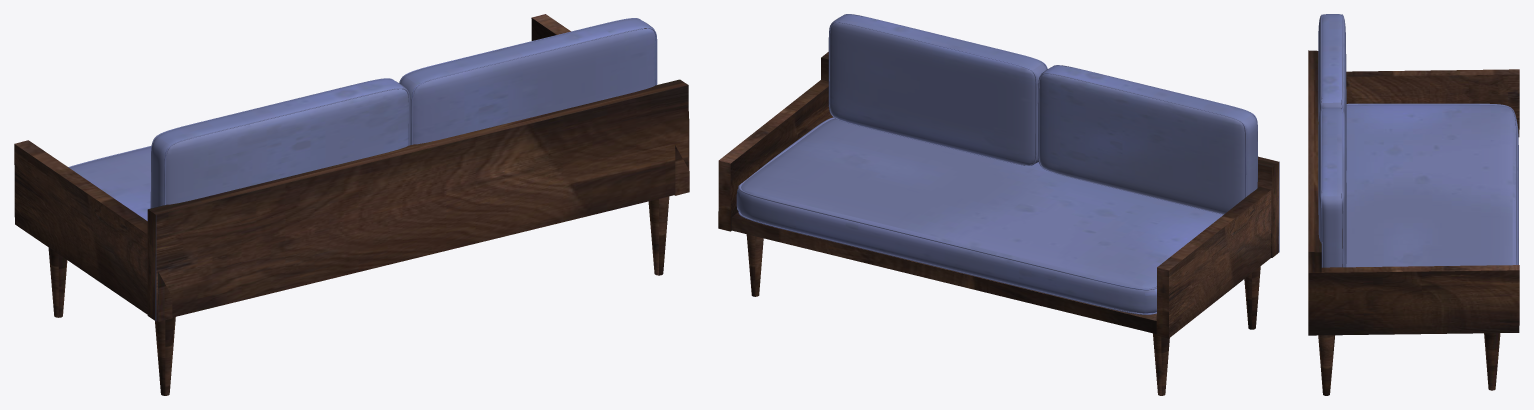
Rendered from Unwrapped_Couch.FBX.
The picture shows the model from 3 angles, left to right: view 1: azimuth 30°, elevation 25°; view 2: azimuth 150°, elevation 25°; view 3: azimuth 270°, elevation 25°; orthographic projection. The views are drawn at different scales.
Visible parts, largest first — view 1: Box004; view 2: Box004; view 3: Box004.
Boxes of the visible parts, box(x1,y1,x2,y2) form: Box004: box(14, 14, 689, 395); Box004: box(718, 14, 1279, 395); Box004: box(1308, 14, 1519, 395).
Bounding box in the file's own units: 70.57 × 31.82 × 30.91.
